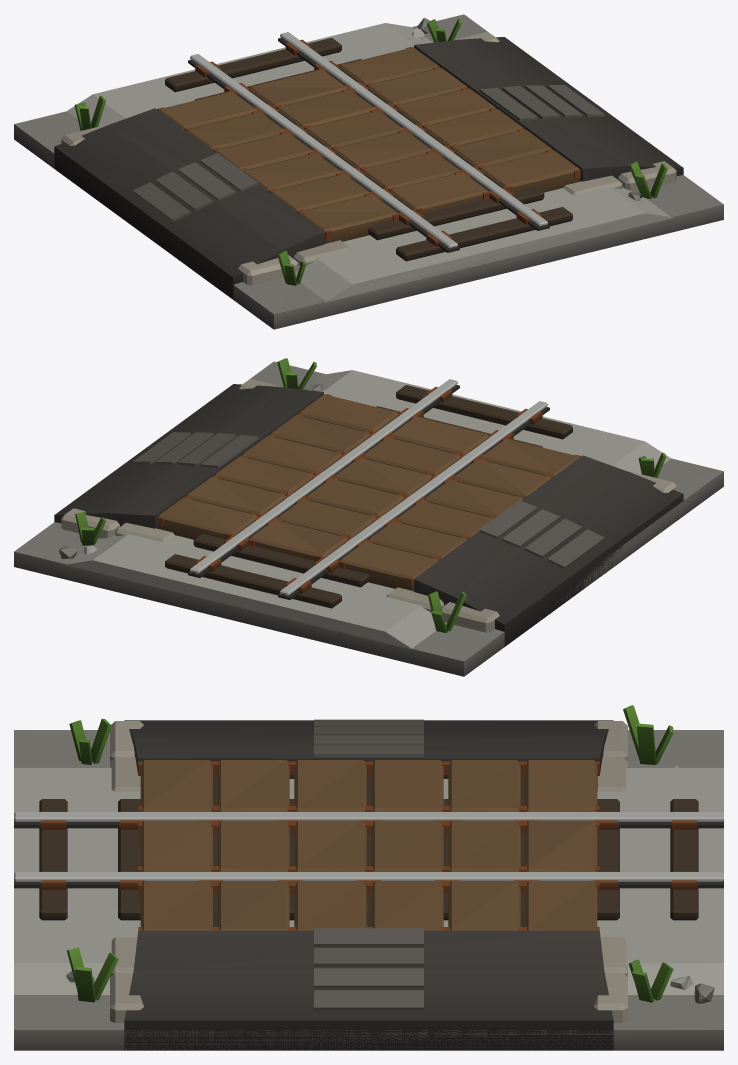
Rendered from track-road-level-tile.glb.
The picture shows the model from 3 angles, top to bottom: view 1: azimuth 30°, elevation 25°; view 2: azimuth 150°, elevation 25°; view 3: azimuth 270°, elevation 25°; orthographic projection. The views are drawn at different scales.
Visible parts, largest first — view 1: track_road_level_tile; view 2: track_road_level_tile; view 3: track_road_level_tile.
Part boxes in pixels (x1,y1,x2,y2): track_road_level_tile: (14,14,723,329); track_road_level_tile: (14,358,723,676); track_road_level_tile: (14,705,723,1050).
Size of the model in its own units: 4 by 0.4207 by 4.
